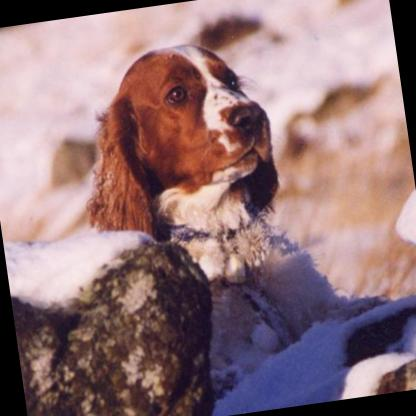Welsh_springer_spaniel: (62, 11, 416, 416)
